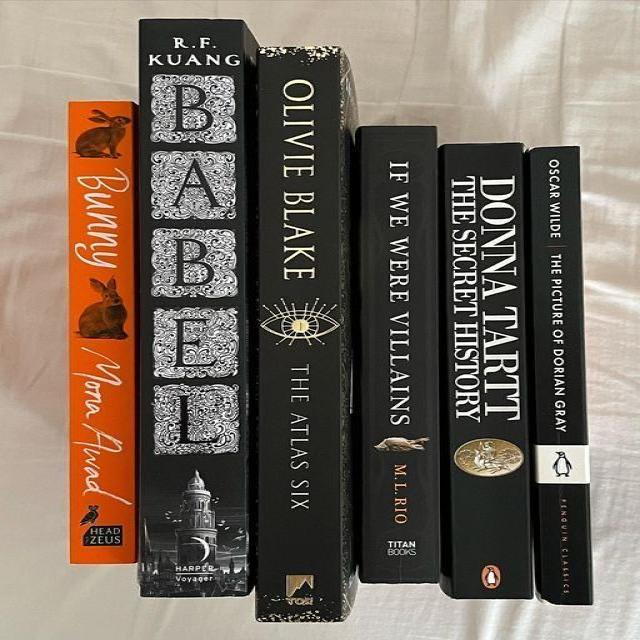book: (139, 20, 258, 596), (255, 47, 355, 621), (440, 143, 531, 598), (354, 126, 439, 583), (69, 100, 138, 564), (526, 147, 591, 605)
